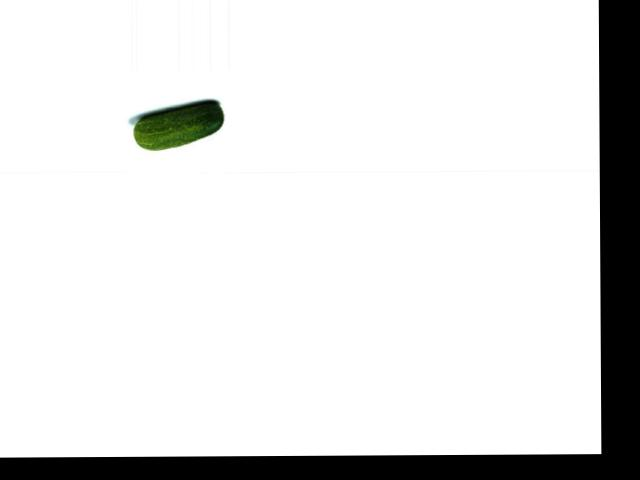cucumber: (134, 101, 224, 150)
